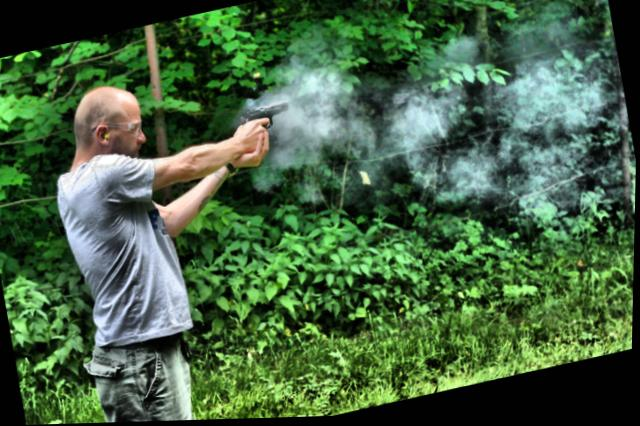pistol: (231, 99, 295, 141)
